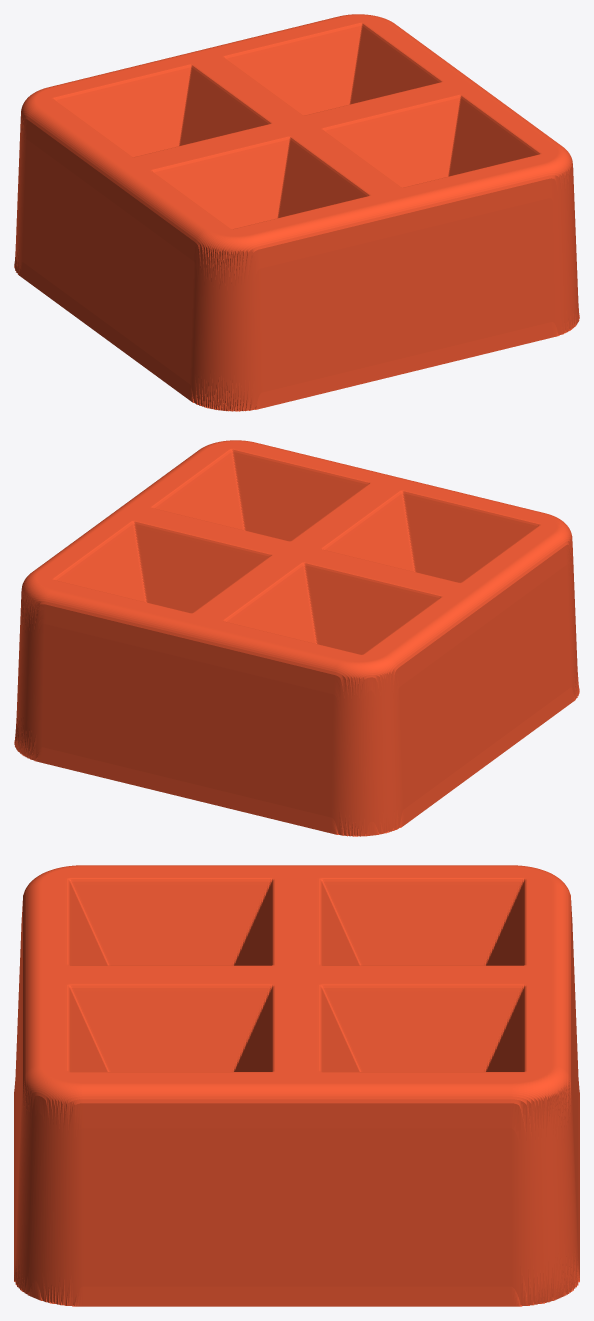
The model's file is mold.glb.
3 views of the same model, one above another, from view 1: azimuth 30°, elevation 25°; view 2: azimuth 150°, elevation 25°; view 3: azimuth 270°, elevation 25° (orthographic). The views are drawn at different scales.
Visible parts, largest first — view 1: geometry_0; view 2: geometry_0; view 3: geometry_0.
Part boxes in pixels (bbox=[...]): geometry_0: bbox=[14, 14, 579, 411]; geometry_0: bbox=[14, 440, 579, 836]; geometry_0: bbox=[14, 865, 579, 1306].
Size of the model in its own units: 0.0746 by 0.0308 by 0.0746.
